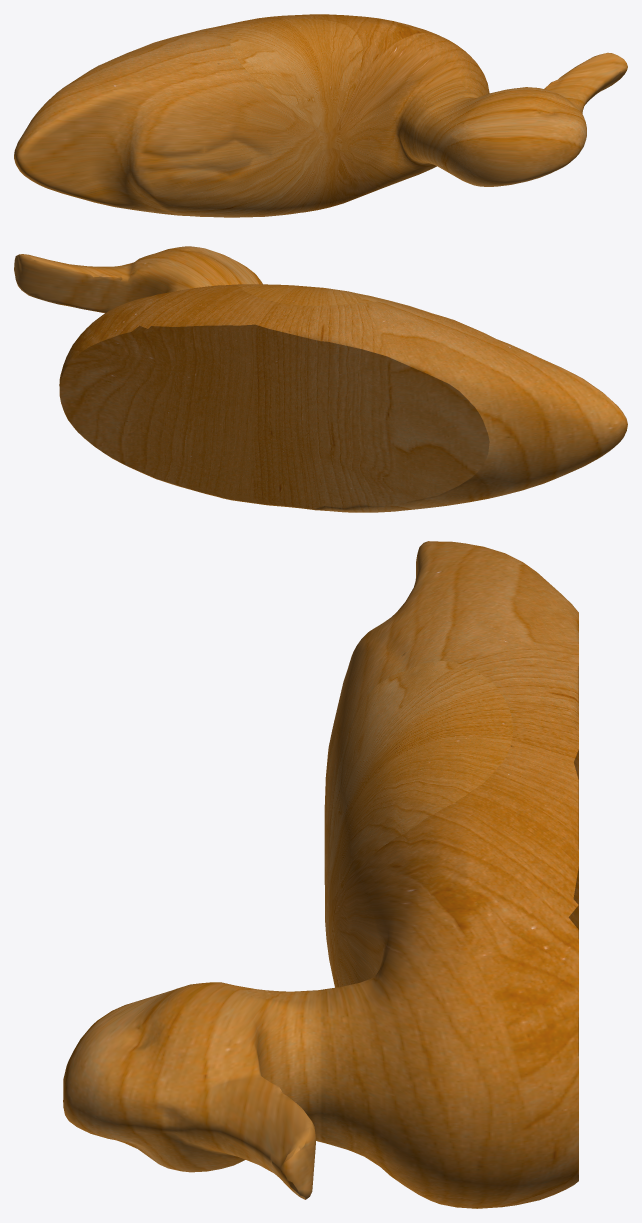
Rendered from Duck_Decoy.fbx.
The picture shows the model from 3 angles, top to bottom: view 1: azimuth 30°, elevation 25°; view 2: azimuth 150°, elevation 25°; view 3: azimuth 270°, elevation 25°; orthographic projection. The views are drawn at different scales.
Visible parts, largest first — view 1: MESHMIXER-STL-BINARY-FORMAT---------------------------------; view 2: MESHMIXER-STL-BINARY-FORMAT---------------------------------; view 3: MESHMIXER-STL-BINARY-FORMAT---------------------------------.
Part boxes in pixels (box(x1,y1,x2,y2)): MESHMIXER-STL-BINARY-FORMAT---------------------------------: box(14, 14, 627, 217); MESHMIXER-STL-BINARY-FORMAT---------------------------------: box(14, 246, 627, 512); MESHMIXER-STL-BINARY-FORMAT---------------------------------: box(63, 541, 578, 1208).
Size of the model in its own units: 36.24 by 11.19 by 14.07.
Materials: 1 (1 with a texture image).
